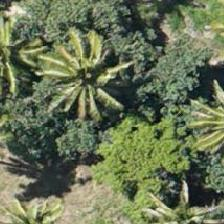coconut_tree: (20, 25, 110, 115)
